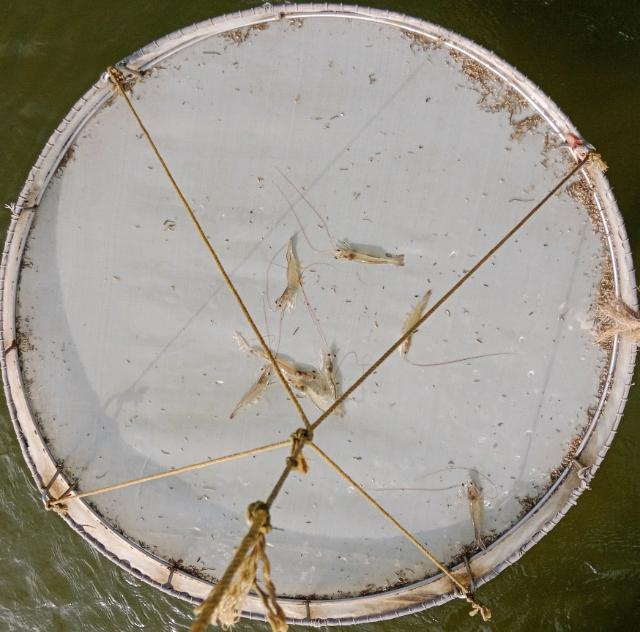shrimp: (282, 372, 345, 417), (246, 348, 321, 381), (230, 364, 272, 419), (396, 291, 430, 357), (275, 238, 305, 311), (335, 240, 403, 265), (467, 481, 485, 551), (317, 348, 339, 404)
